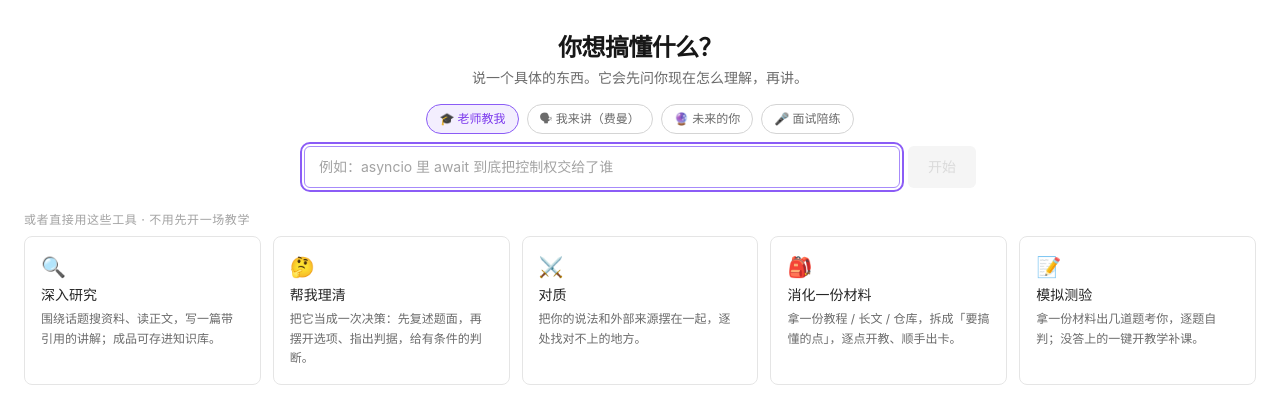
it: TutorPage · 我来讲 · 让它判 › 判出来了 → verdict 与缺口都摆出来（走的是服务端那条 end）
The image size is (1273, 413).
Click the button "🗣 我来讲（费曼）": coordinates (590, 119) x1=527 y1=104 x2=653 y2=134
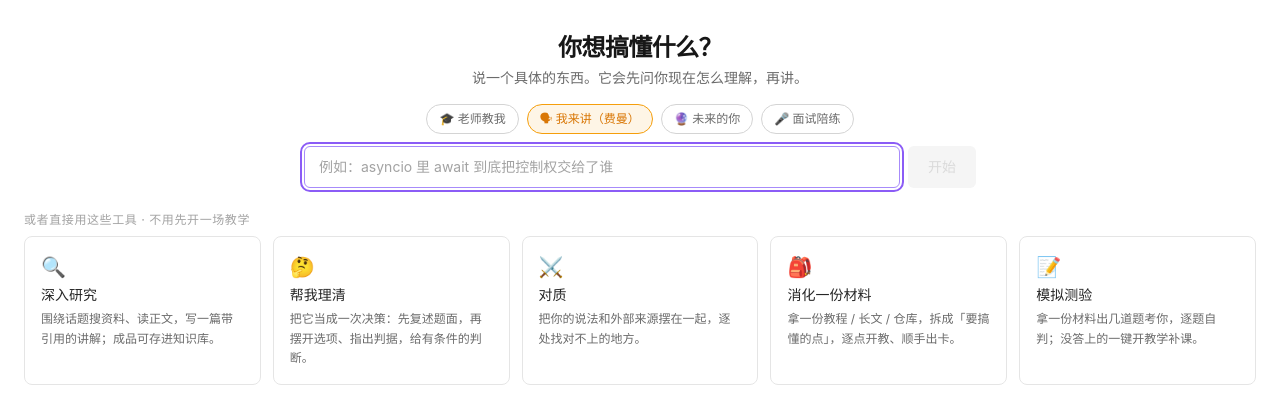
In the field with placeholder "例如：asyncio 里 await 到底把控制权交给了谁": coordinates (602, 167) x1=304 y1=146 x2=900 y2=188, type "事件循环"
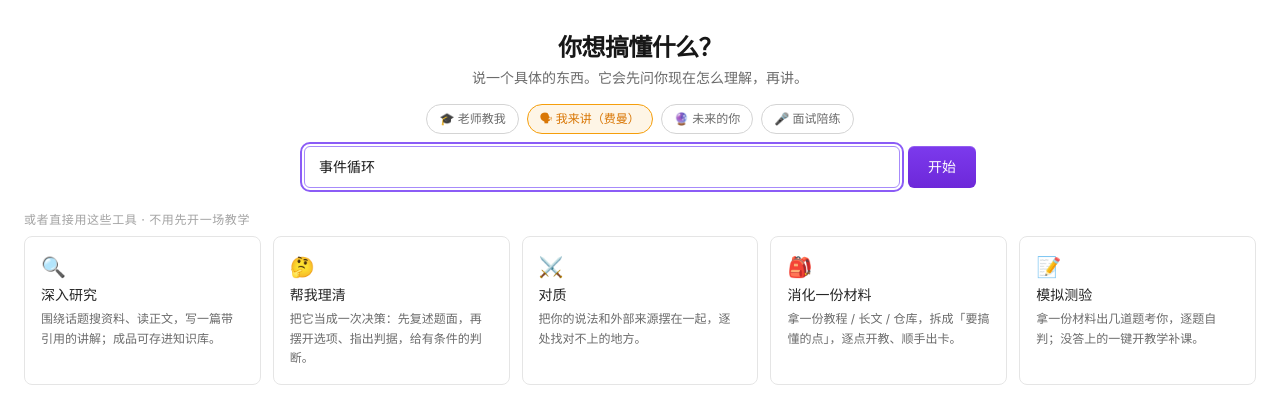
Click the button "开始": coordinates (942, 167) x1=908 y1=146 x2=976 y2=188
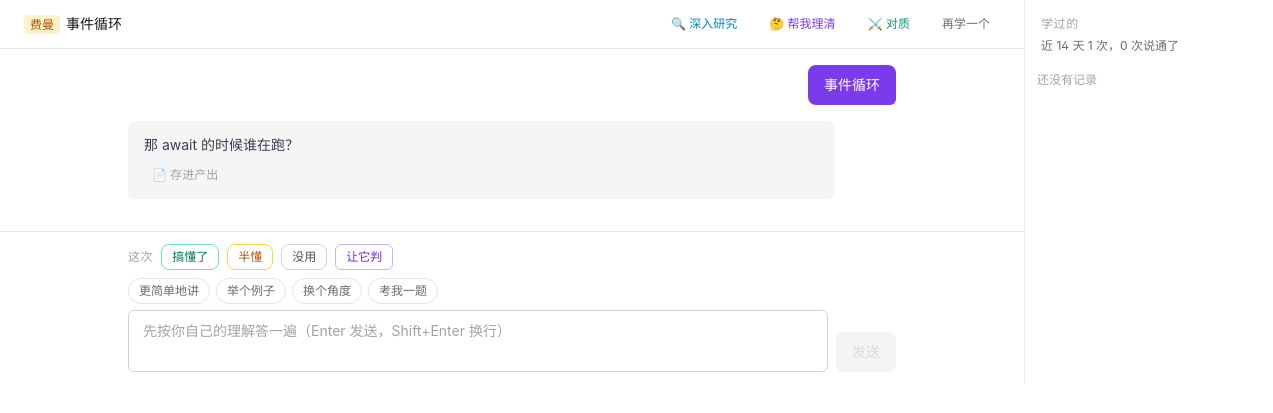
Now the text "那 await 的时候谁在跑？" is shown, box x1=144 y1=136 x2=299 y2=153
Click the button "让它判": coordinates (364, 257) x1=335 y1=244 x2=393 y2=270
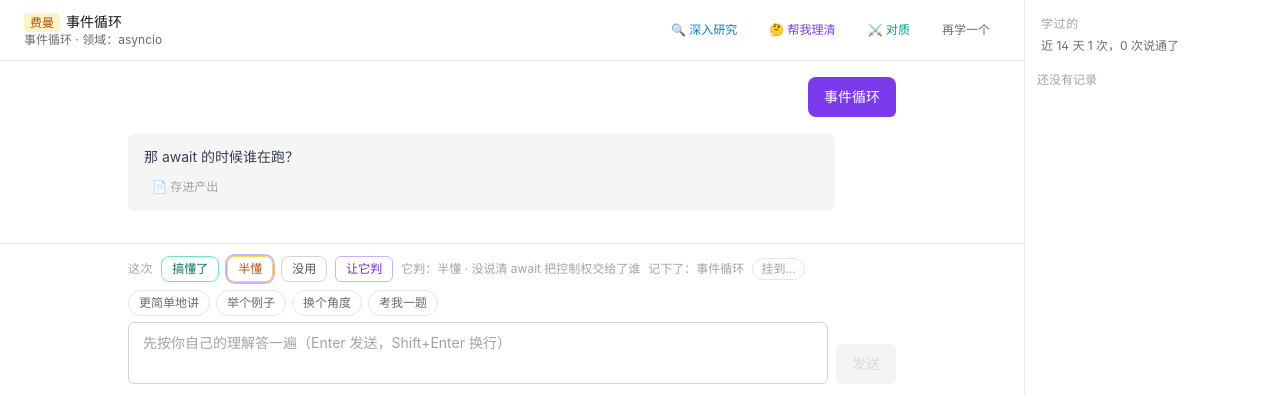
Now the text "它判：半懂 · 没说清 await 把控制权交给了谁" is shown, box x1=401 y1=261 x2=640 y2=277
Now the text "记下了：事件循环" is shown, box x1=648 y1=261 x2=744 y2=277
